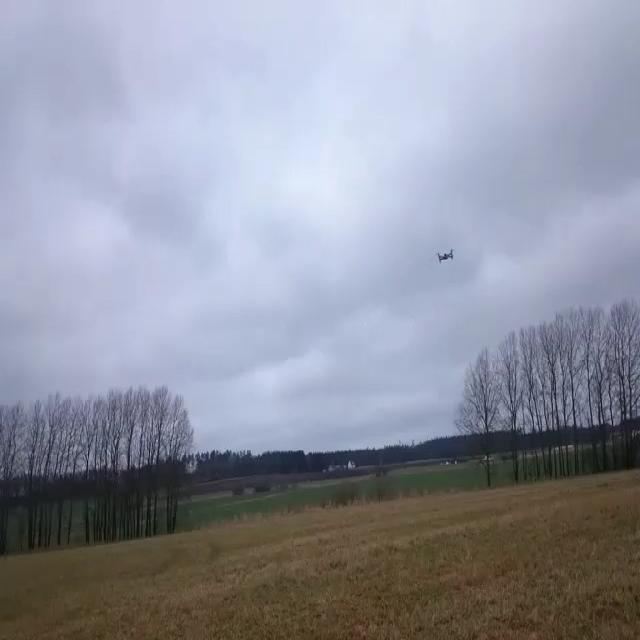drone: (437, 248, 454, 264)
